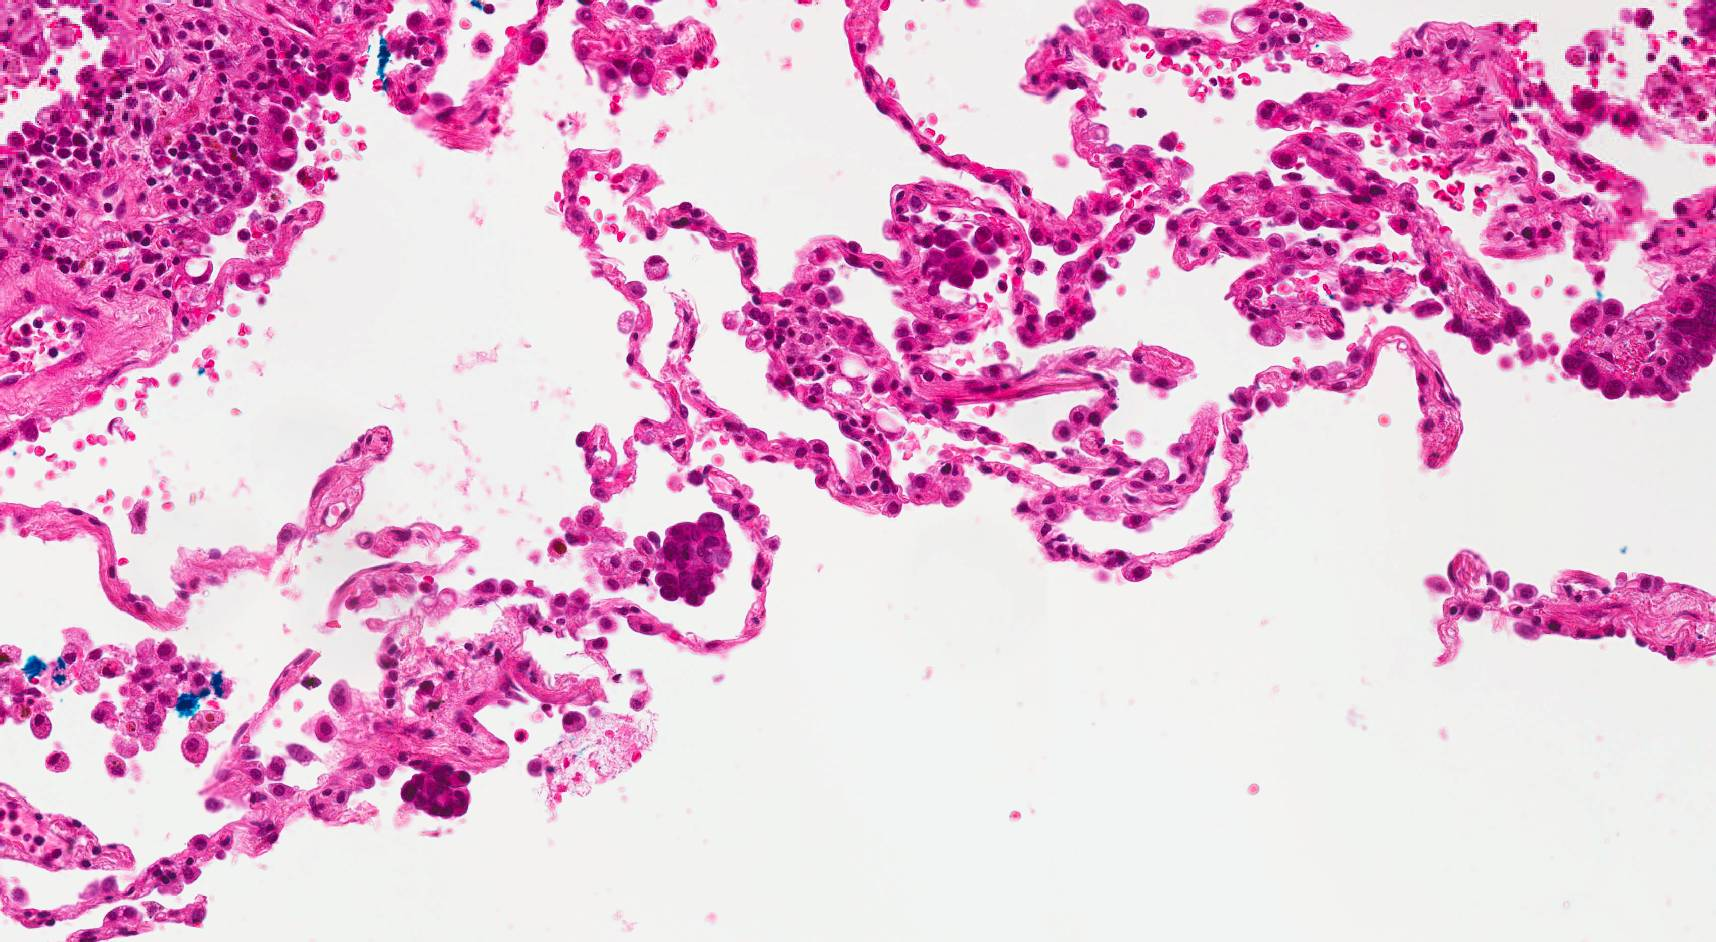stas: (645, 506, 733, 610), (401, 763, 478, 822), (923, 228, 991, 294)
